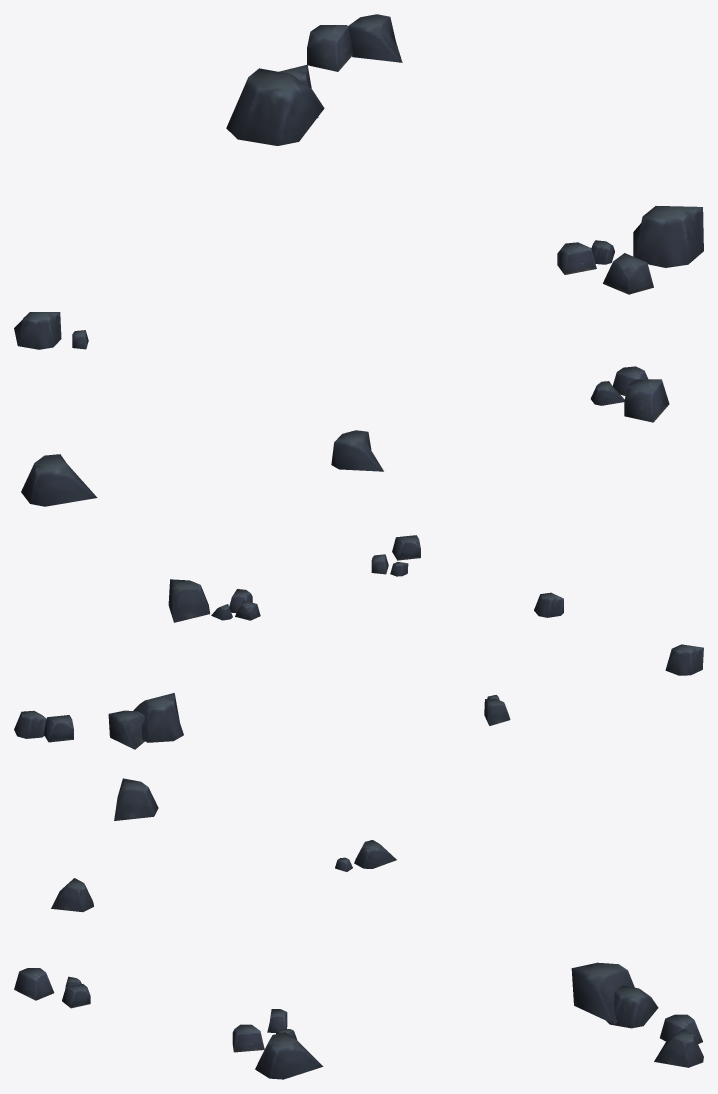
File: shitou16.fbx
3 views of the same model, one above another, from view 1: azimuth 30°, elevation 25°; view 2: azimuth 150°, elevation 25°; view 3: azimuth 270°, elevation 25° (orthographic). The views are drawn at different scales.
Visible parts, largest first — view 1: shitou16; view 2: shitou16; view 3: shitou16.
Boxes of the visible parts, x1,y1,x2,y2 form: shitou16: (14, 14, 703, 506); shitou16: (14, 535, 703, 749); shitou16: (14, 778, 703, 1079).
Bounding box in the file's own units: 4479 × 287 × 4741.
